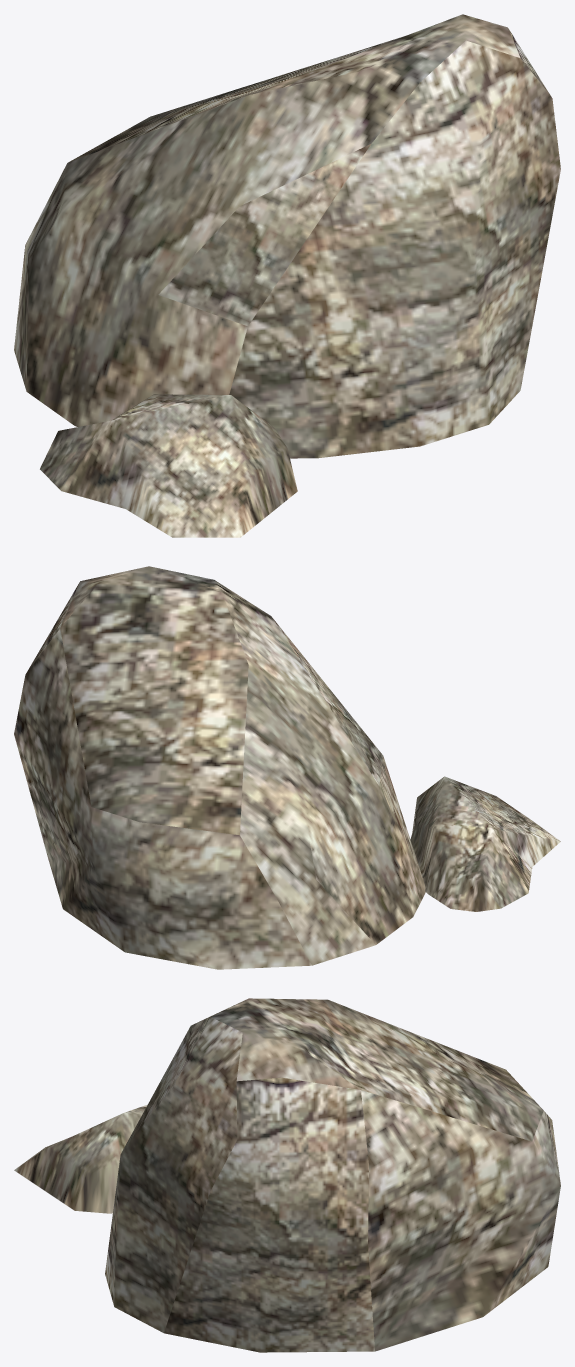
File: geo_medit_01.dae
3 views of the same model, one above another, from view 1: azimuth 30°, elevation 25°; view 2: azimuth 150°, elevation 25°; view 3: azimuth 270°, elevation 25° (orthographic). The views are drawn at different scales.
Parts seen in each view (by area): view 1: stone_granite_large_e-Pivot; view 2: stone_granite_large_e-Pivot; view 3: stone_granite_large_e-Pivot.
Part boxes in pixels (box(x1,y1,x2,y2)): stone_granite_large_e-Pivot: box(14, 14, 560, 537); stone_granite_large_e-Pivot: box(14, 566, 560, 969); stone_granite_large_e-Pivot: box(14, 998, 560, 1352).
Bounding box in the file's own units: 8.23 × 7.91 × 4.71.
